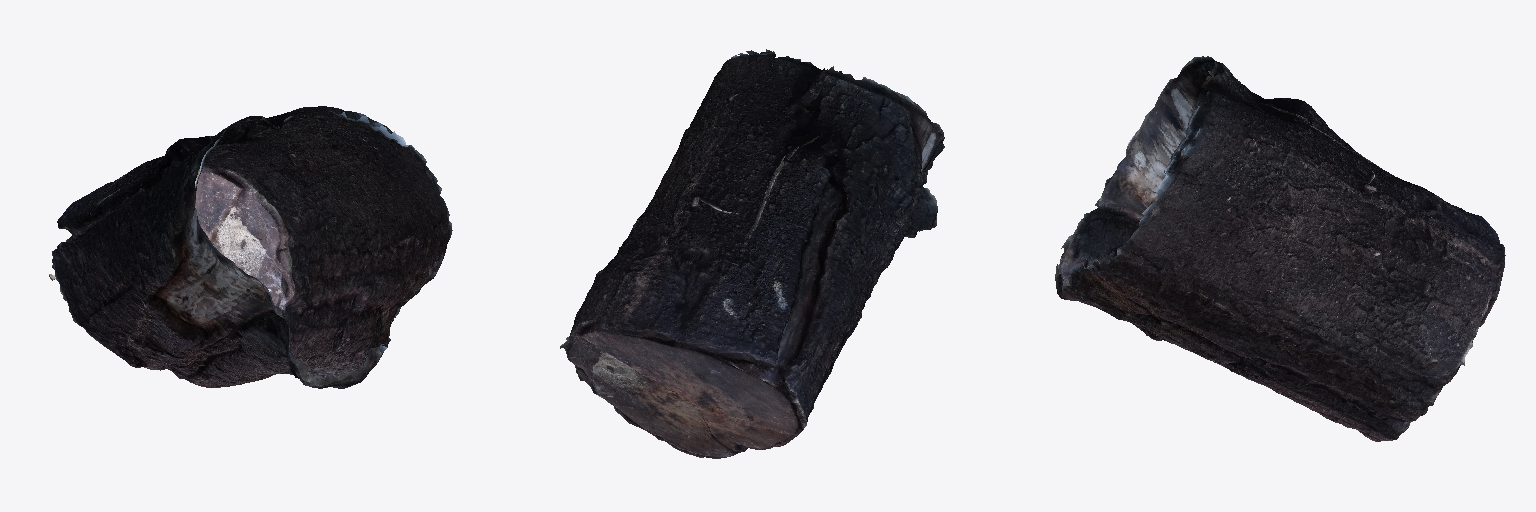
3 views of the same model, side by side, from view 1: azimuth 30°, elevation 25°; view 2: azimuth 150°, elevation 25°; view 3: azimuth 270°, elevation 25° (orthographic).
Bounding box in the file's own units: 7.97 × 10.79 × 12.87.
1 materials, 1 textured.